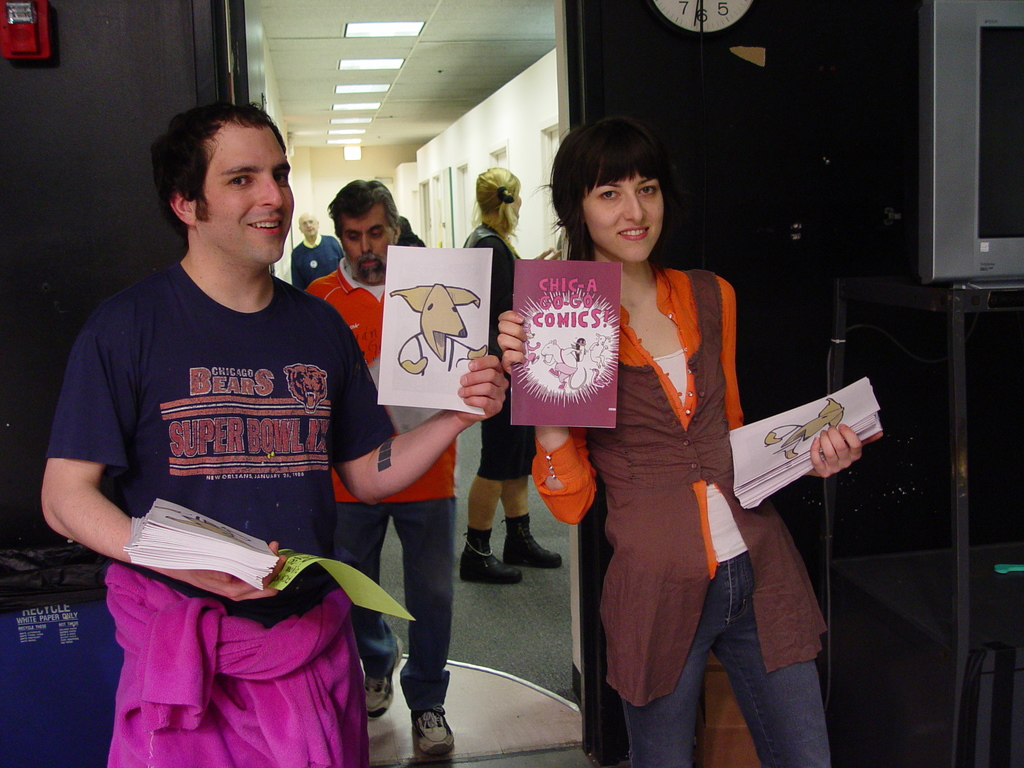Footwear: (362, 634, 407, 716), (501, 529, 562, 570), (410, 707, 453, 757), (458, 550, 522, 582)
